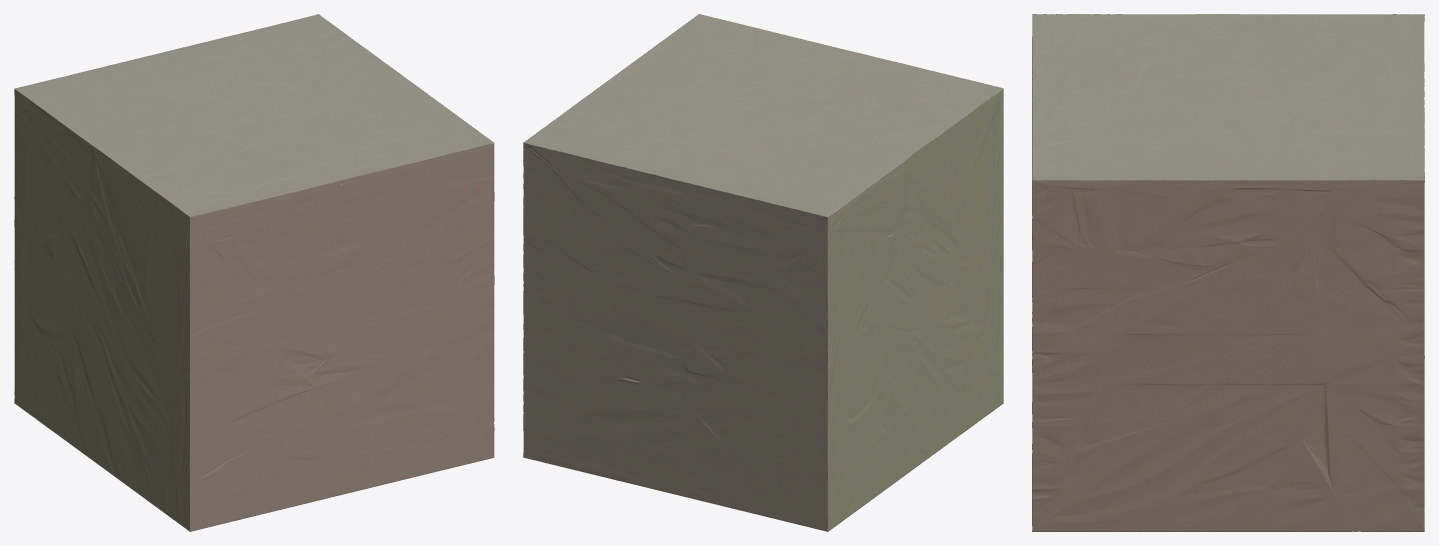
The model's file is model_8b3cbb37-532b-46d8-8d35-24b14b21e45a_draco.glb.
The picture shows the model from 3 angles, left to right: view 1: azimuth 30°, elevation 25°; view 2: azimuth 150°, elevation 25°; view 3: azimuth 270°, elevation 25°; orthographic projection. The views are drawn at different scales.
Parts seen in each view (by area): view 1: tripo_node_8b3cbb37-532b-46d8-8d35-24b14b21e45a; view 2: tripo_node_8b3cbb37-532b-46d8-8d35-24b14b21e45a; view 3: tripo_node_8b3cbb37-532b-46d8-8d35-24b14b21e45a.
Boxes of the visible parts, x1=… form: tripo_node_8b3cbb37-532b-46d8-8d35-24b14b21e45a: x1=14, y1=14, x2=494, y2=531; tripo_node_8b3cbb37-532b-46d8-8d35-24b14b21e45a: x1=523, y1=14, x2=1003, y2=531; tripo_node_8b3cbb37-532b-46d8-8d35-24b14b21e45a: x1=1032, y1=14, x2=1424, y2=531.
Size of the model in its own units: 0.9986 by 0.9874 by 0.9978.
1 material, 1 textured.
